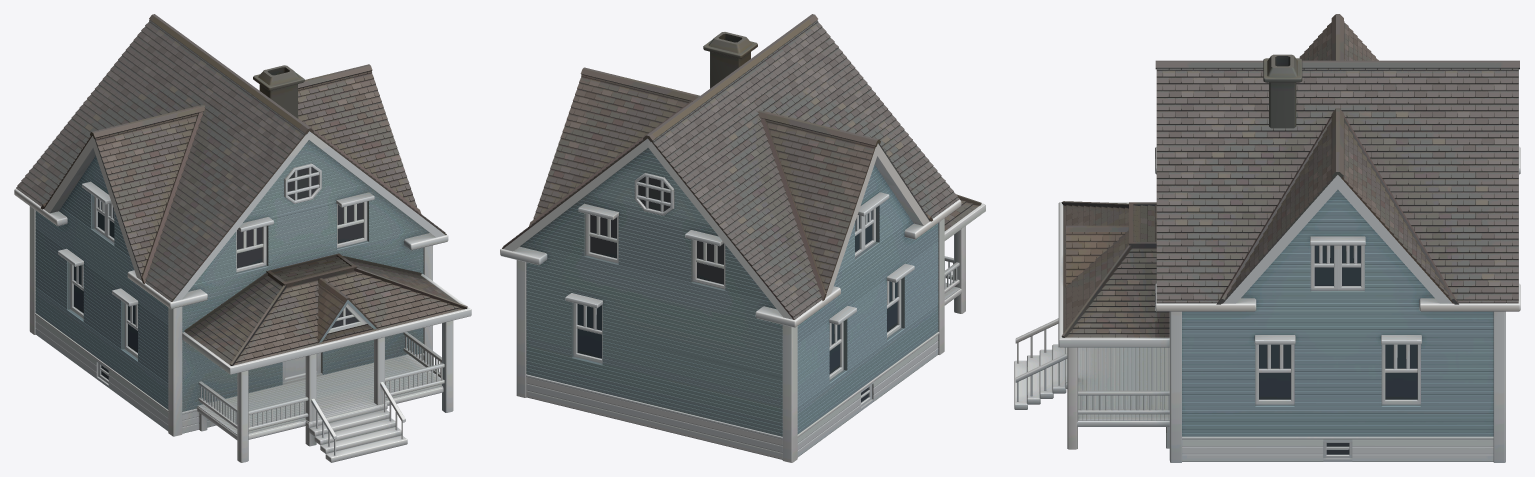
3 renders of one model, left to right at view 1: azimuth 30°, elevation 25°; view 2: azimuth 150°, elevation 25°; view 3: azimuth 270°, elevation 25°, orthographic. The views are drawn at different scales.
Parts seen in each view (by area): view 1: node_id5; view 2: node_id5; view 3: node_id5.
Boxes of the visible parts, left/top/right/bottom form: node_id5: left=14, top=14, right=471, bottom=462; node_id5: left=500, top=14, right=985, bottom=462; node_id5: left=1014, top=14, right=1520, bottom=462.
Bounding box in the file's own units: 0.0051 × 0.00512 × 0.00689.
1 material, 1 textured.
